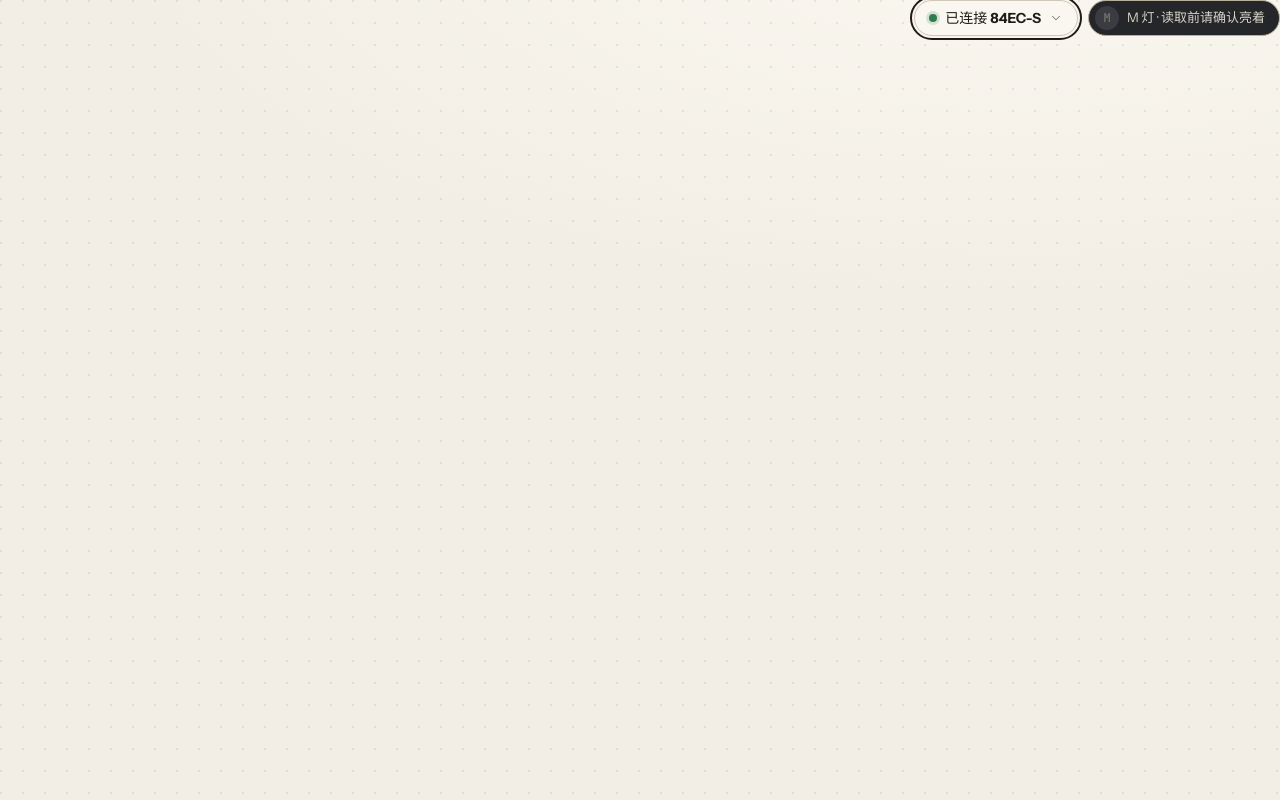
Test case: ConnectionBar, connected › opens popovers without a modal: focus moves in, Esc gives it back, a click outside closes
Later steps or results of the test are not shown.
Step 1. Click the button "已连接 84EC-S" → (996, 18), box [914,0,1078,36]
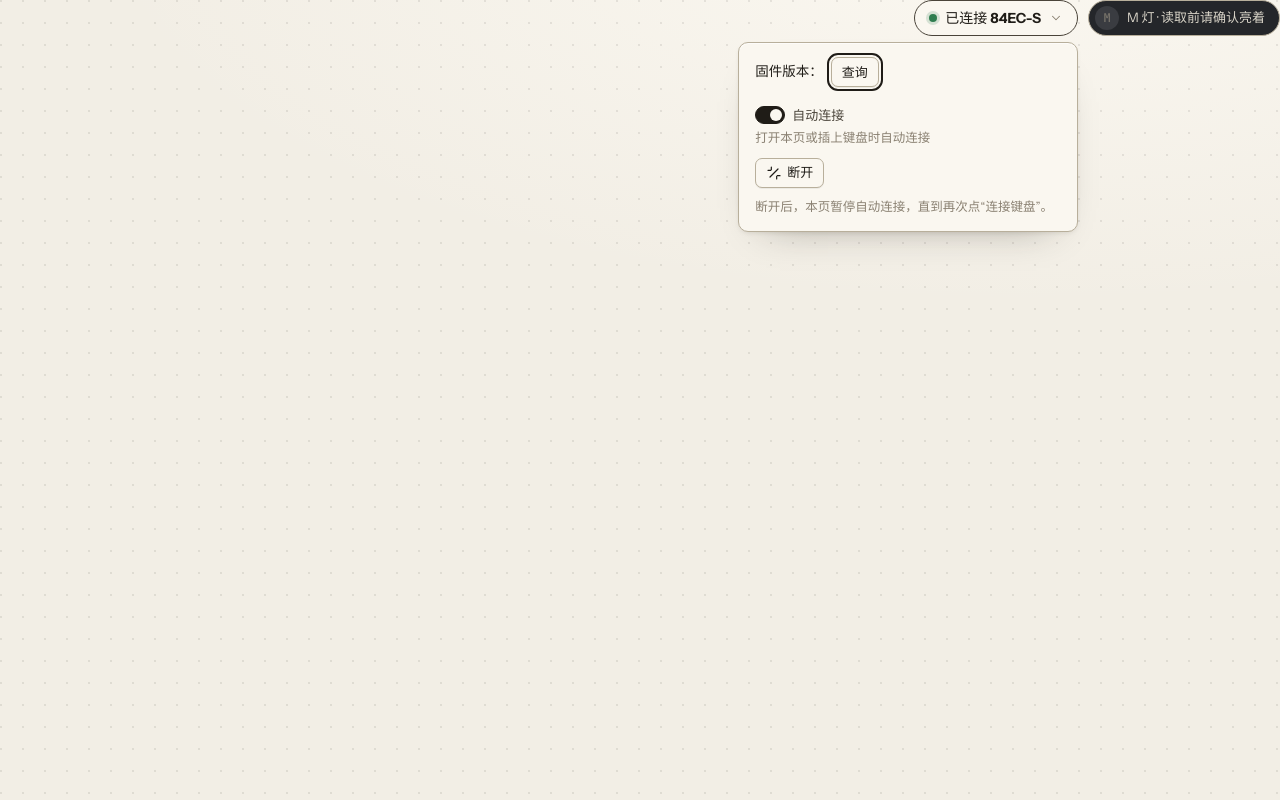
Check: the button "已连接 84EC-S" is expanded, box [914,0,1078,36]
Step 2. Press Escape in the button with aria-label "查询固件版本", box [831,57,879,87]
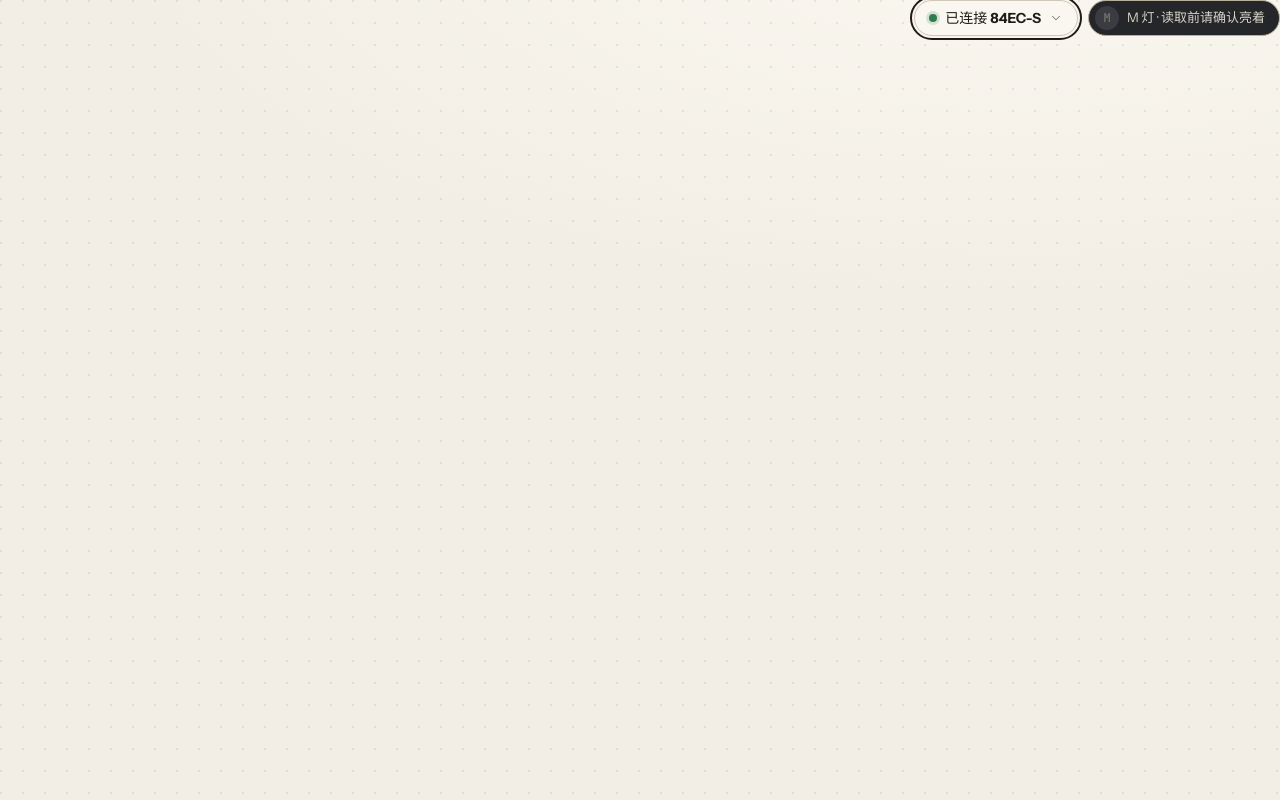
Check: the dialog is gone
Check: the button "已连接 84EC-S" is collapsed
Step 3. Click the button "已连接 84EC-S" → (996, 18), box [914,0,1078,36]
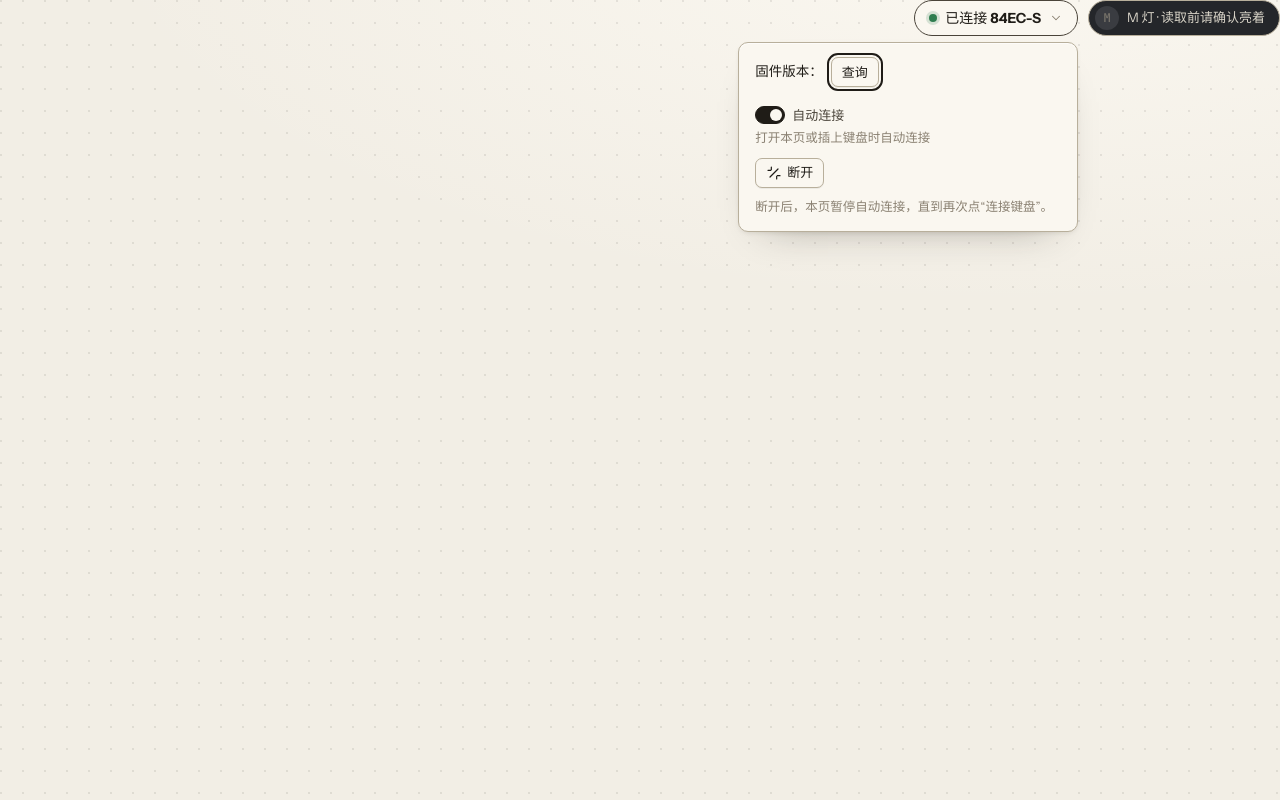
Step 4. Press the mouse on the element that starts with "已连接" → (640, 400), box [0,0,1279,799]
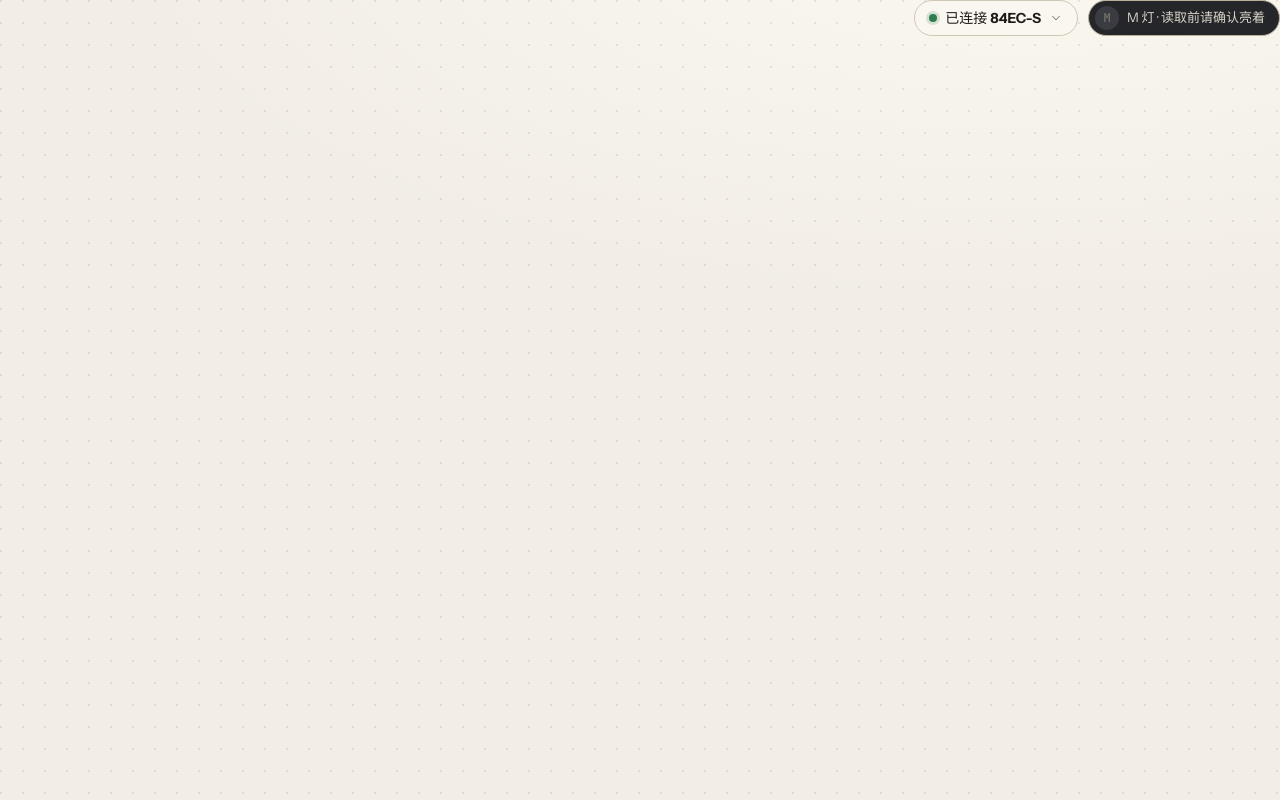
Check: the dialog is gone
